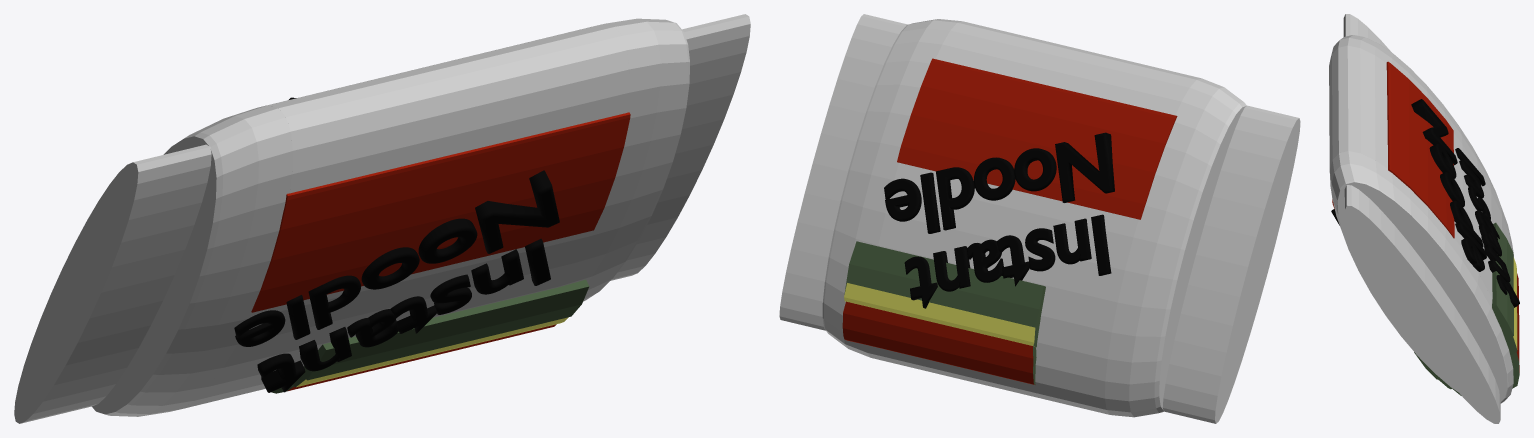
Rendered from food_4_indomie.fbx.
The picture shows the model from 3 angles, left to right: view 1: azimuth 30°, elevation 25°; view 2: azimuth 150°, elevation 25°; view 3: azimuth 270°, elevation 25°; orthographic projection. The views are drawn at different scales.
Parts seen in each view (by area): view 1: food_indomie; view 2: food_indomie; view 3: food_indomie.
Part boxes in pixels (bbox=[...]): food_indomie: bbox=[14, 14, 750, 423]; food_indomie: bbox=[779, 14, 1300, 423]; food_indomie: bbox=[1329, 14, 1519, 423].
Bounding box in the file's own units: 101 × 60.74 × 42.76.
